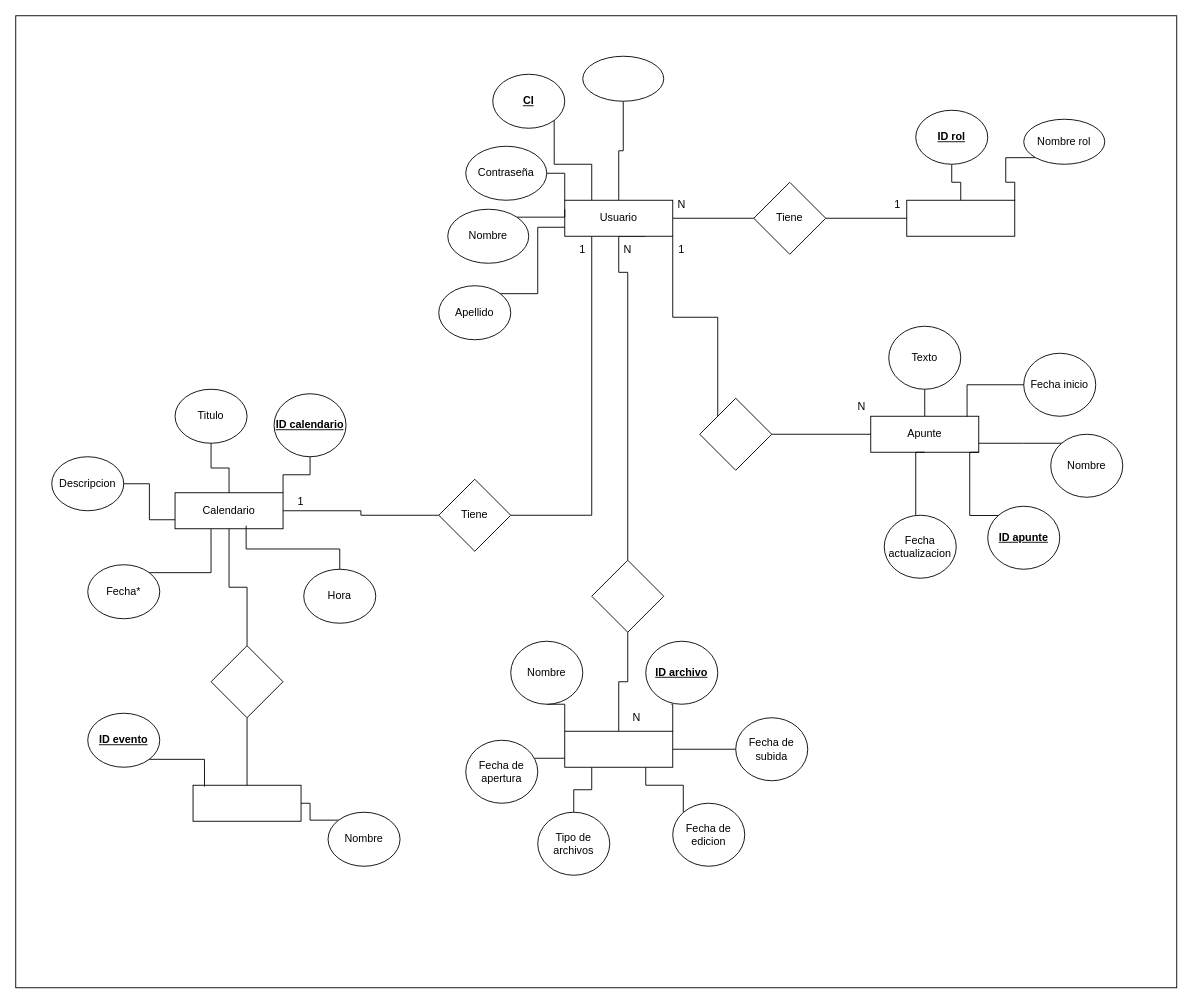
Image size: 1193x1004. Some labels were removed from this diagram. The centre of each missing label's shape, as x and y in pixels:
"Administra" belongs at point (627, 595).
"Archivo" belongs at point (618, 748).
"Crea" belongs at point (246, 681).
"Evento" belongs at point (246, 802).
"Genera" belongs at point (735, 433).
"Gmail" belongs at point (623, 78).
"Rol" belongs at point (960, 217).
